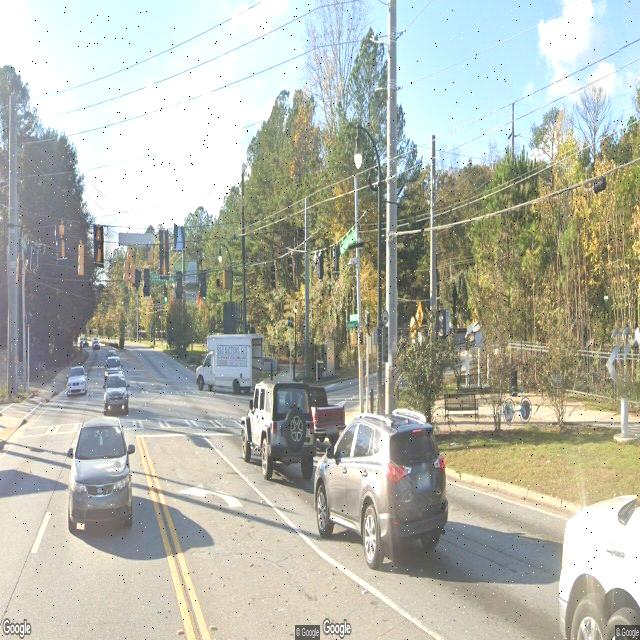seating: (443, 392, 479, 425)
